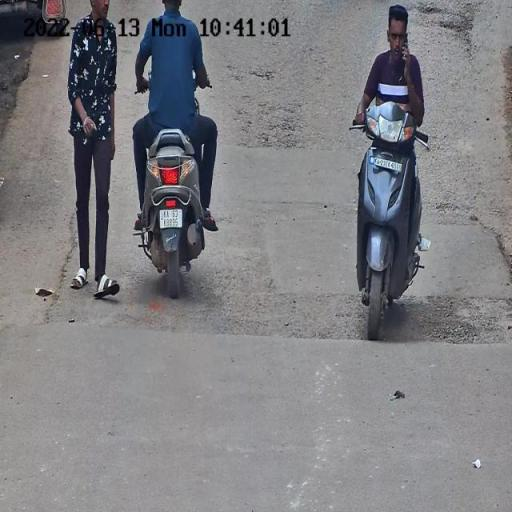using mobile: (400, 29, 410, 81)
